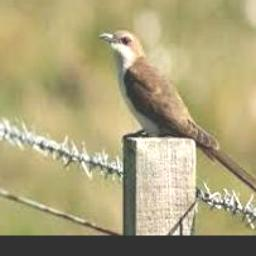Cuckoo: (98, 30, 256, 203)
